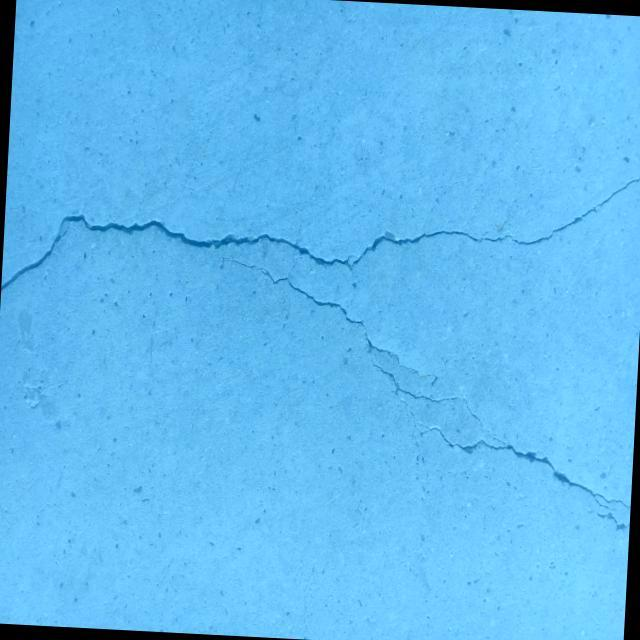crack: (205, 255, 640, 532), (1, 141, 640, 326)
